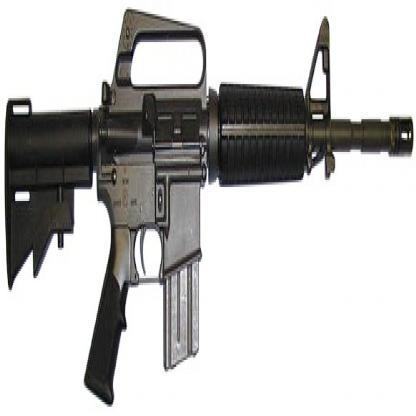gun: (0, 12, 416, 411)
